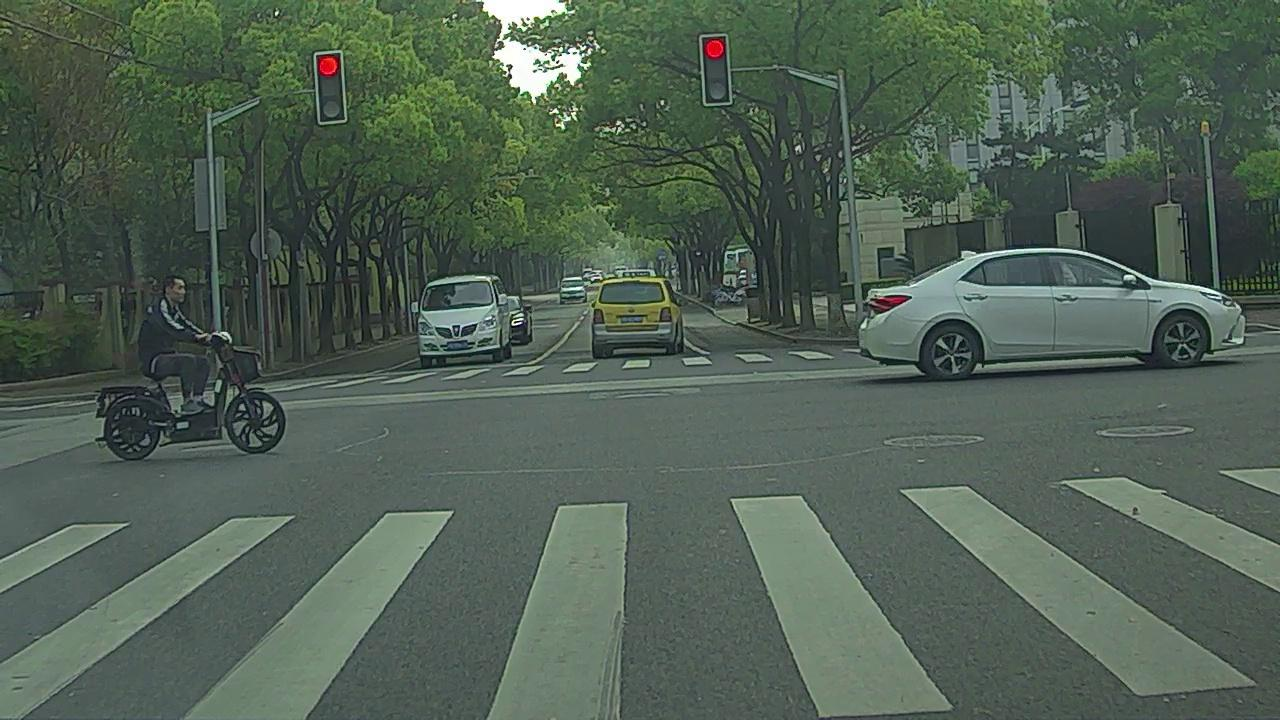traffic_light: (314, 52, 345, 122), (704, 37, 730, 104)
